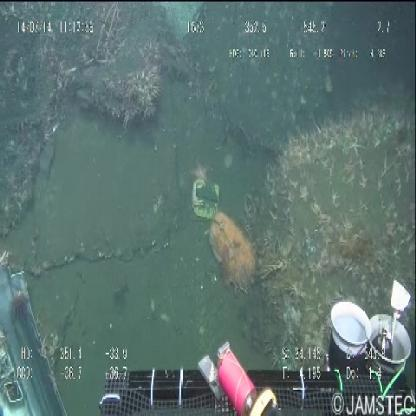Rov: (86, 274, 416, 411)
Rác: (0, 229, 81, 416)
